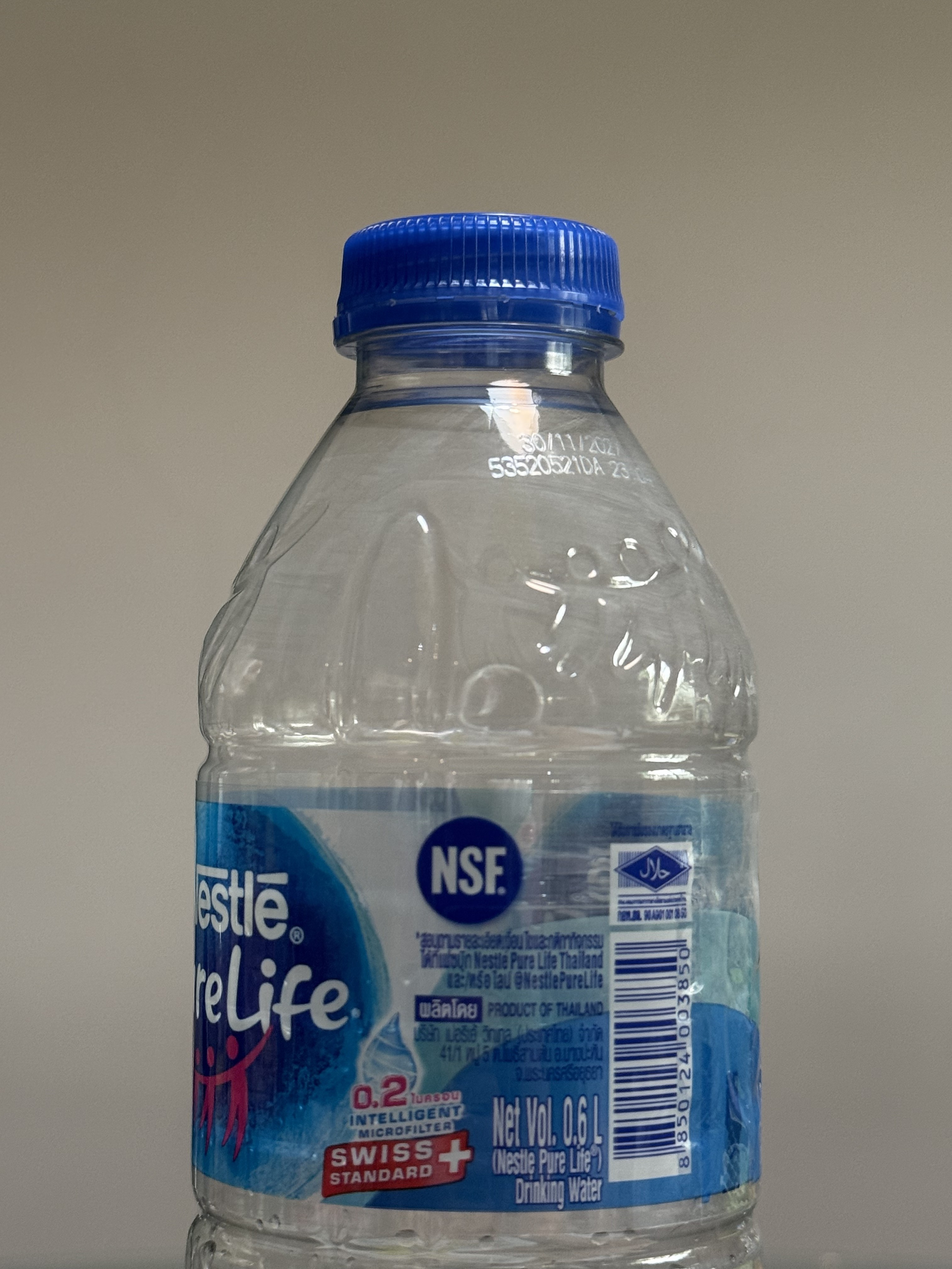closed_cap: (329, 207, 628, 356)
